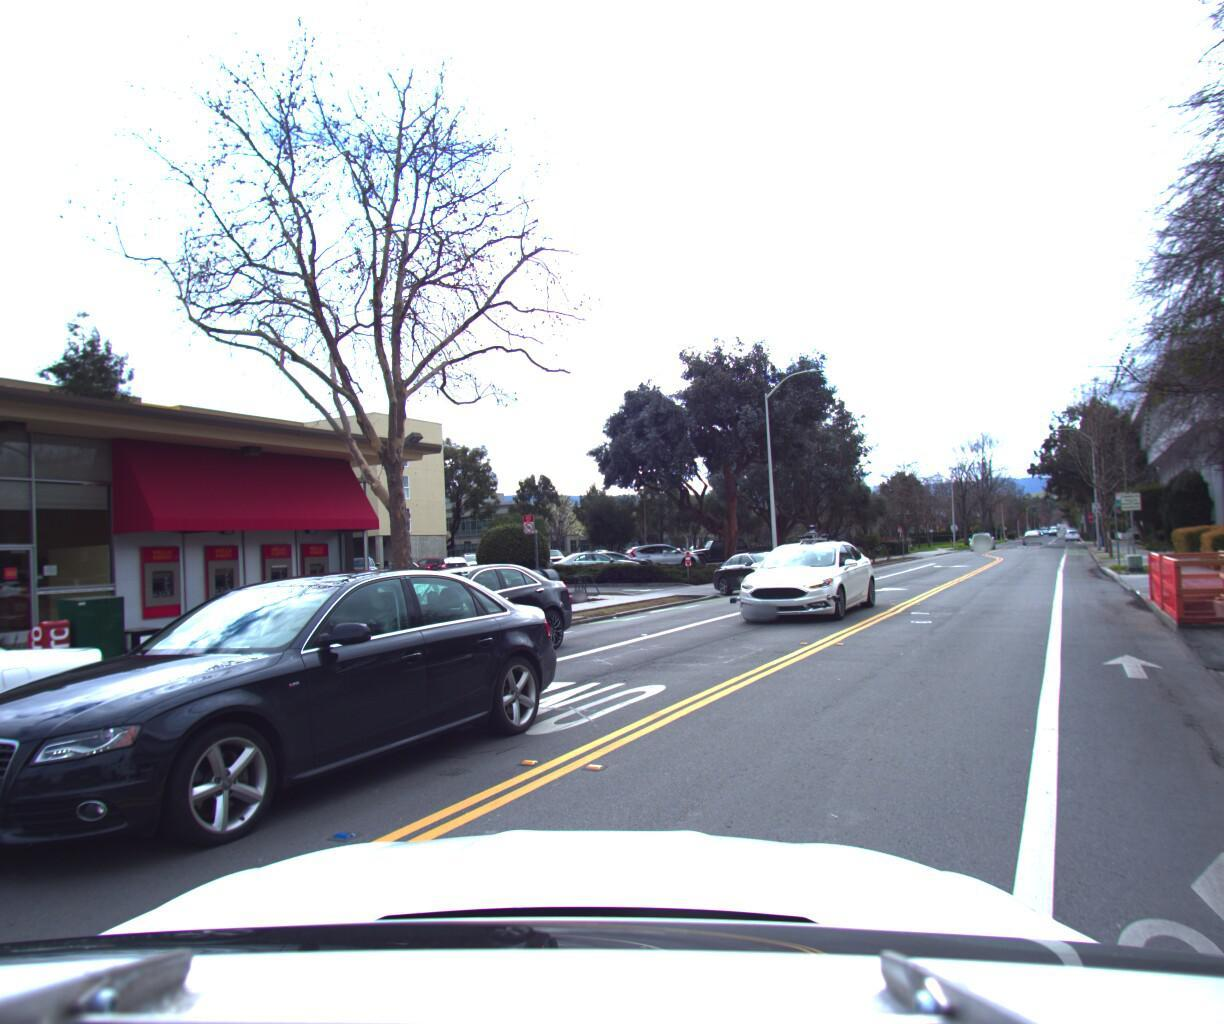car: (0, 559, 583, 940), (0, 596, 136, 1024), (273, 551, 588, 686), (720, 524, 885, 619), (702, 542, 820, 591), (552, 540, 642, 574), (619, 532, 703, 566), (683, 530, 754, 558), (963, 522, 993, 542)
